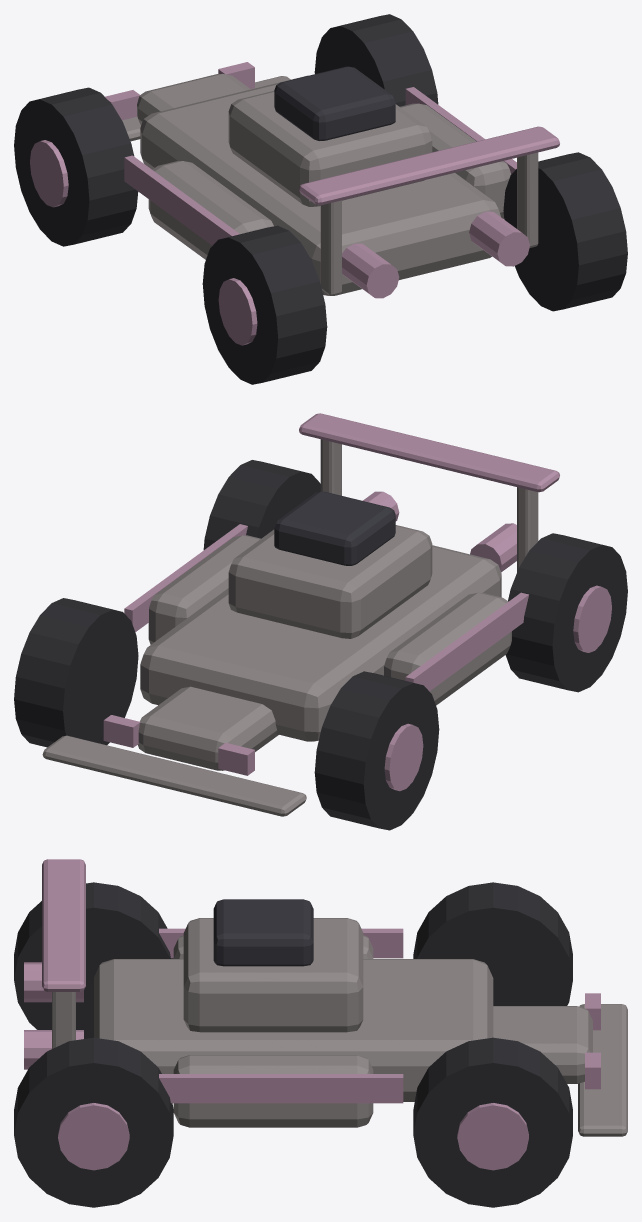
The model's file is Kart_Neon_03.fbx.
3 renders of one model, top to bottom at view 1: azimuth 30°, elevation 25°; view 2: azimuth 150°, elevation 25°; view 3: azimuth 270°, elevation 25°, orthographic. The views are drawn at different scales.
Visible parts, largest first — view 1: Chassis, Wheel_3, Wheel_1, Wheel_2, Cockpit, Wheel_0, RearWing, Seat, PodRight, StripRight, PodLeft, Nose (+10 smaller); view 2: Chassis, Cockpit, Wheel_0, Wheel_2, Wheel_3, Nose, FrontWing, RearWing, Seat, Wheel_1, PodRight, PodLeft (+9 smaller); view 3: Chassis, Wheel_0, Wheel_1, Cockpit, Wheel_2, Wheel_3, PodLeft, StripLeft, Seat, RearWing, Nose, FrontWing (+7 smaller).
Part boxes in pixels (box(x1,y1,x2,y2)): Chassis: box(140, 75, 500, 295); Wheel_3: box(202, 225, 327, 384); Wheel_1: box(503, 152, 627, 311); Wheel_2: box(14, 87, 138, 246); Cockpit: box(228, 91, 432, 206); Wheel_0: box(314, 14, 438, 106); RearWing: box(299, 126, 559, 205); Seat: box(274, 66, 395, 140); PodRight: box(148, 161, 273, 259); StripRight: box(124, 155, 239, 245); PodLeft: box(400, 103, 511, 218); Nose: box(137, 73, 250, 125); Chassis: box(140, 545, 501, 741); Cockpit: box(228, 525, 432, 638); Wheel_0: box(14, 598, 138, 747); Wheel_2: box(314, 671, 439, 830); Wheel_3: box(505, 533, 627, 692); Nose: box(138, 686, 278, 770); FrontWing: box(42, 735, 306, 816); RearWing: box(299, 413, 559, 492); Seat: box(274, 491, 395, 565); Wheel_1: box(203, 460, 320, 549); PodRight: box(384, 592, 511, 705); PodLeft: box(148, 535, 260, 644); Chassis: box(94, 959, 493, 1101); Wheel_0: box(413, 1037, 572, 1207); Wheel_1: box(14, 1037, 173, 1207); Cockpit: box(183, 918, 363, 1032); Wheel_2: box(413, 882, 572, 1005); Wheel_3: box(14, 882, 173, 1038); PodLeft: box(173, 1055, 373, 1127); StripLeft: box(159, 1074, 403, 1103); Seat: box(213, 899, 313, 966); RearWing: box(42, 859, 85, 991); Nose: box(493, 1006, 592, 1083); FrontWing: box(578, 1004, 627, 1136).
Size of the model in its own units: 2.2 by 1.11 by 3.07.
